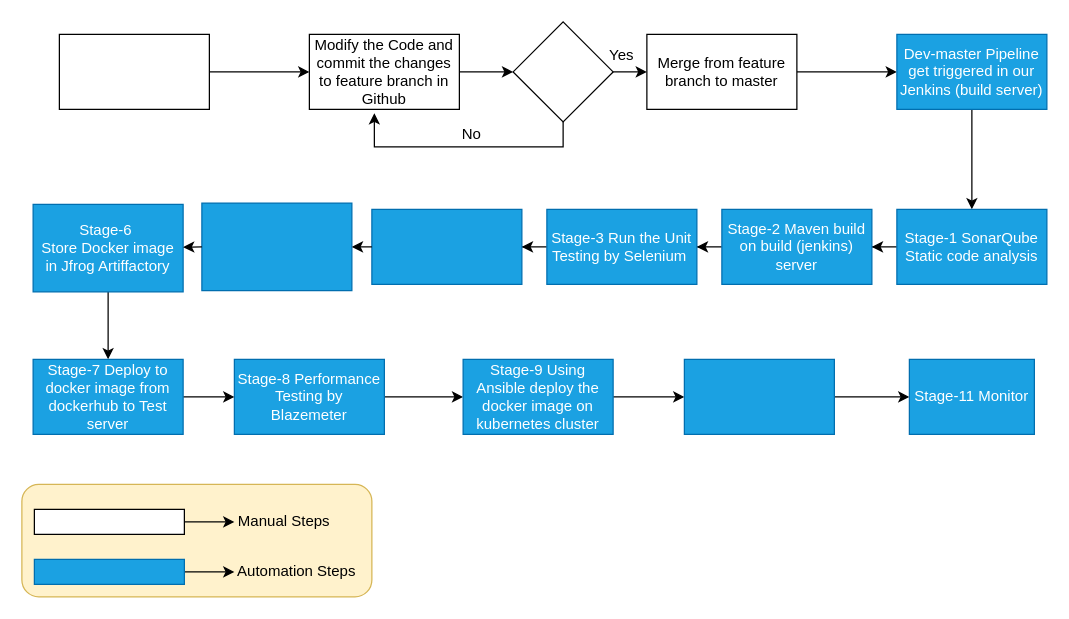
This 1069x619 diagram has some shape labels left out. The centre of each missing label's shape, as x and y in pixels:
"Approval" belongs at point (562, 71).
"Jira Story" belongs at point (133, 71).
"Stage-10 Perform Sanity test using Selnium" belongs at point (758, 396).
"Stage-4 Update Test Server IP Address" belongs at point (446, 246).
"Stage-5 Create Docker image using Ansible which has tomcat and postgresql" belongs at point (276, 246).
